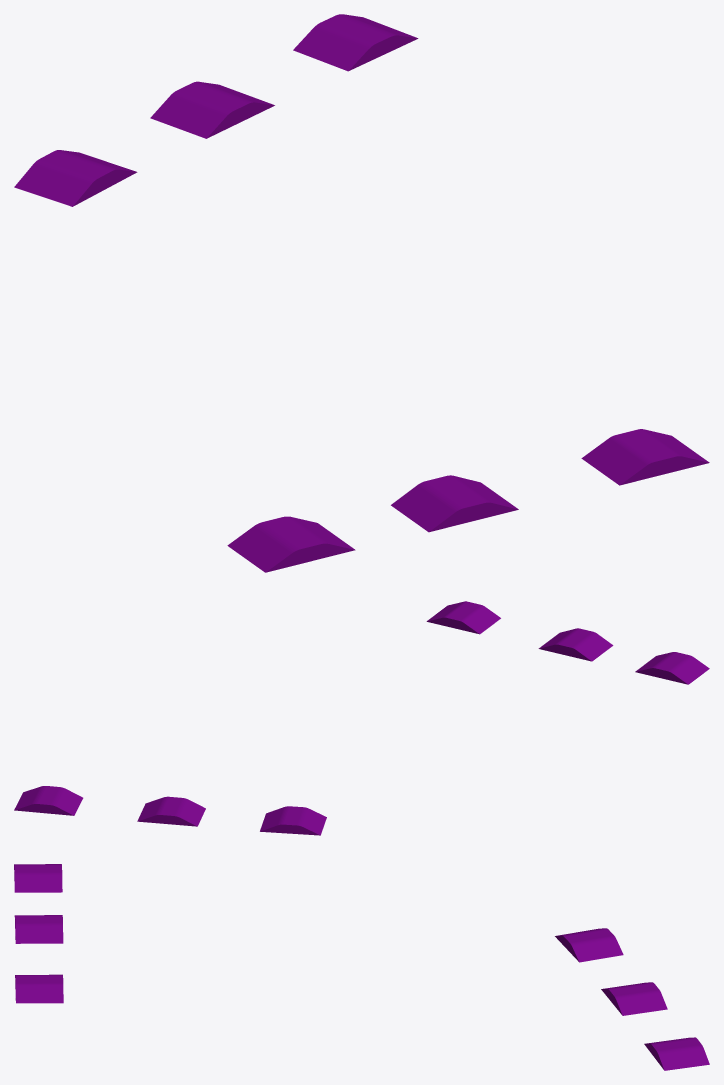
File: RAMPS.fbx
3 views of the same model, one above another, from view 1: azimuth 30°, elevation 25°; view 2: azimuth 150°, elevation 25°; view 3: azimuth 270°, elevation 25° (orthographic). The views are drawn at different scales.
Visible parts, largest first — view 1: ramp.005, ramp.006, ramp.004, ramp.002, ramp.001, ramp; view 2: ramp, ramp.001, ramp.002, ramp.005, ramp.004, ramp.006; view 3: ramp, ramp.001, ramp.002, ramp.004, ramp.006, ramp.005.
Part boxes in pixels (x1=…): ramp.005: x1=391, y1=475, x2=518, y2=532; ramp.006: x1=227, y1=516, x2=355, y2=572; ramp.004: x1=581, y1=429, x2=709, y2=485; ramp.002: x1=293, y1=14, x2=418, y2=71; ramp.001: x1=150, y1=81, x2=274, y2=138; ramp: x1=14, y1=150, x2=137, y2=206; ramp: x1=260, y1=806, x2=326, y2=835; ramp.001: x1=137, y1=796, x2=205, y2=826; ramp.002: x1=14, y1=786, x2=83, y2=815; ramp.005: x1=538, y1=628, x2=613, y2=661; ramp.004: x1=426, y1=601, x2=500, y2=634; ramp.006: x1=635, y1=652, x2=709, y2=684; ramp: x1=555, y1=928, x2=623, y2=962; ramp.001: x1=601, y1=982, x2=667, y2=1015; ramp.002: x1=644, y1=1037, x2=709, y2=1070; ramp.004: x1=15, y1=974, x2=63, y2=1003; ramp.006: x1=14, y1=864, x2=62, y2=892; ramp.005: x1=14, y1=915, x2=63, y2=943.
Size of the model in its own units: 3564 by 2506 by 55.15.
